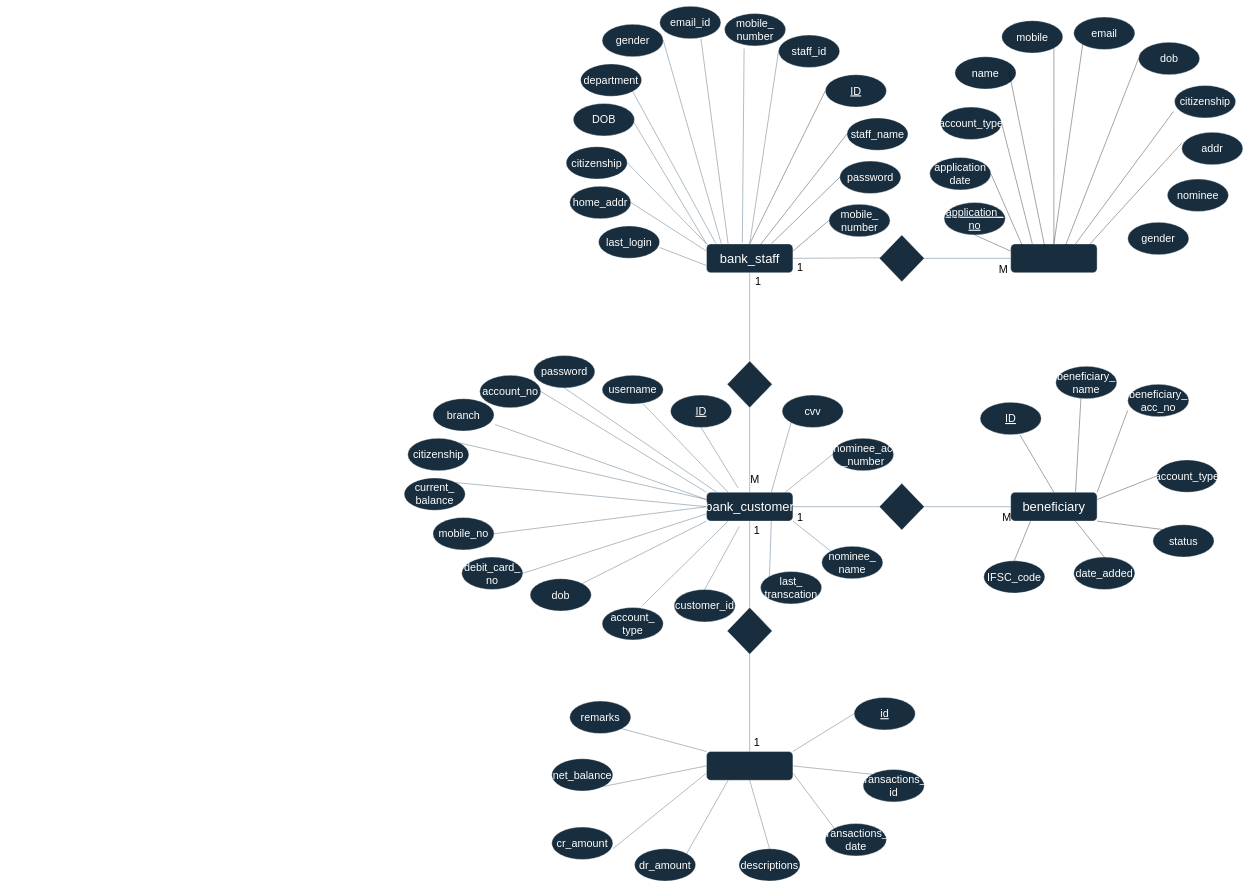
This 1249x887 diagram has some shape labels left out. The centre of each missing label's shape, as x and y in pixels:
add/ manage: [901,506]
approve: [901,258]
have: [749,630]
Manages: [749,384]
passbook: [749,765]
pending_ account: [1053,258]
